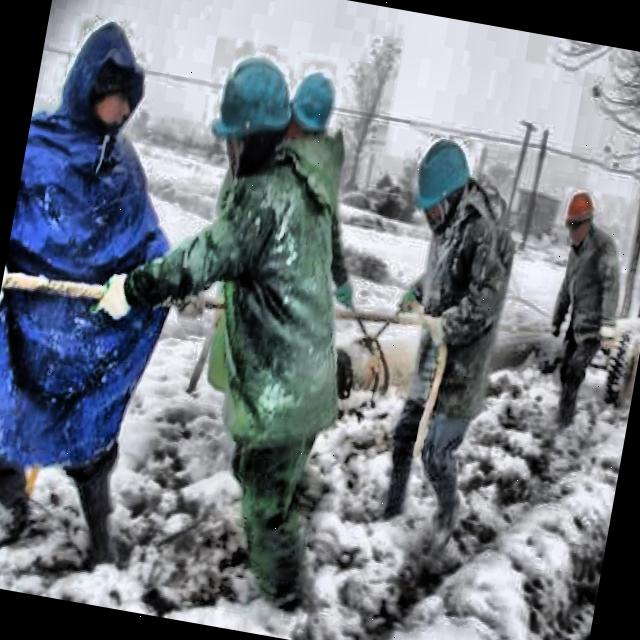helmet: (200, 43, 298, 189), (399, 123, 482, 250), (281, 63, 342, 150), (558, 185, 600, 250)
